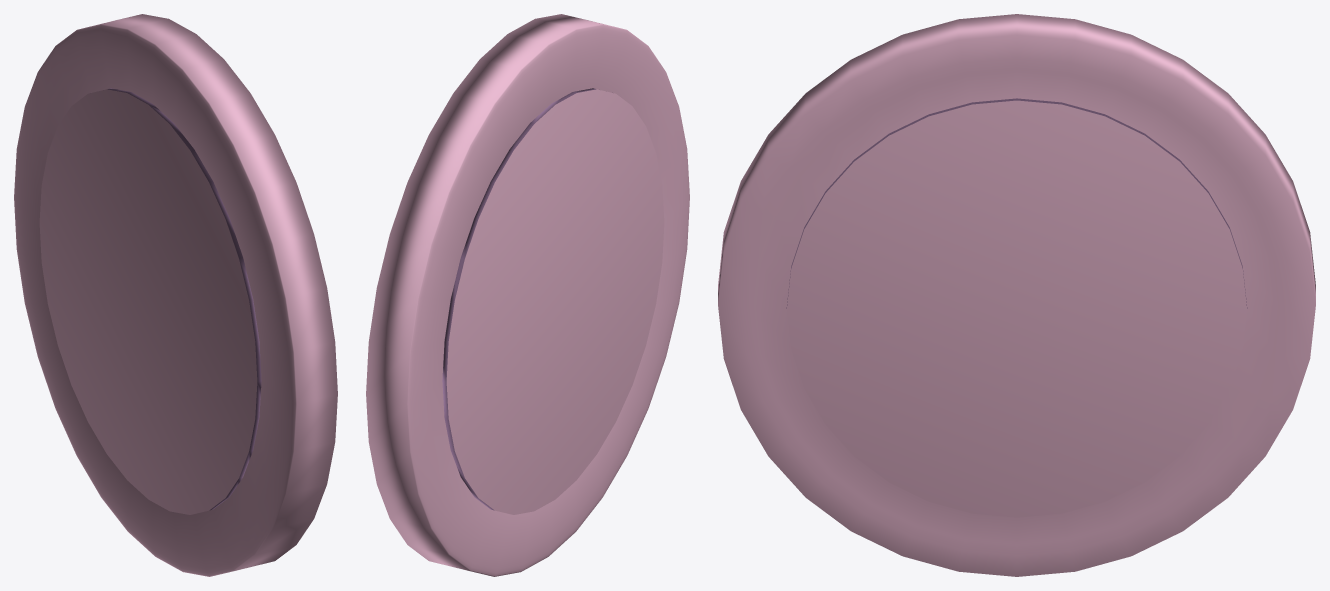
Rendered from PILL2.fbx.
3 views of the same model, side by side, from view 1: azimuth 30°, elevation 25°; view 2: azimuth 150°, elevation 25°; view 3: azimuth 270°, elevation 25° (orthographic). The views are drawn at different scales.
Parts seen in each view (by area): view 1: pill 2; view 2: pill 2; view 3: pill 2.
Boxes of the visible parts, bbox=[...] form: pill 2: bbox=[14, 14, 337, 576]; pill 2: bbox=[366, 14, 689, 576]; pill 2: bbox=[718, 14, 1315, 576].
Size of the model in its own units: 22.01 by 200 by 200.
